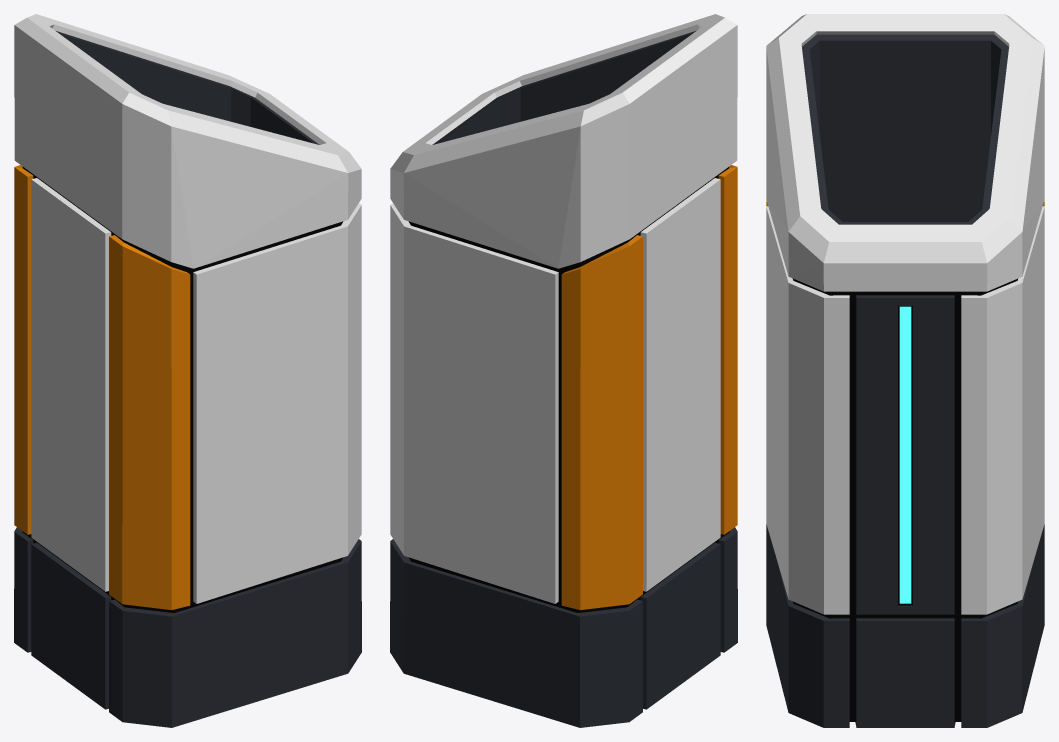
Rendered from SM_Trash_Bin.fbx.
3 renders of one model, left to right at view 1: azimuth 30°, elevation 25°; view 2: azimuth 150°, elevation 25°; view 3: azimuth 270°, elevation 25°, orthographic. The views are drawn at different scales.
Visible parts, largest first — view 1: SM_Trash_Bin; view 2: SM_Trash_Bin; view 3: SM_Trash_Bin.
Part boxes in pixels (x1,y1,x2,y2): SM_Trash_Bin: (14, 14, 361, 727); SM_Trash_Bin: (390, 14, 737, 727); SM_Trash_Bin: (766, 14, 1044, 727).
Size of the model in its own units: 25 by 59.5 by 25.
